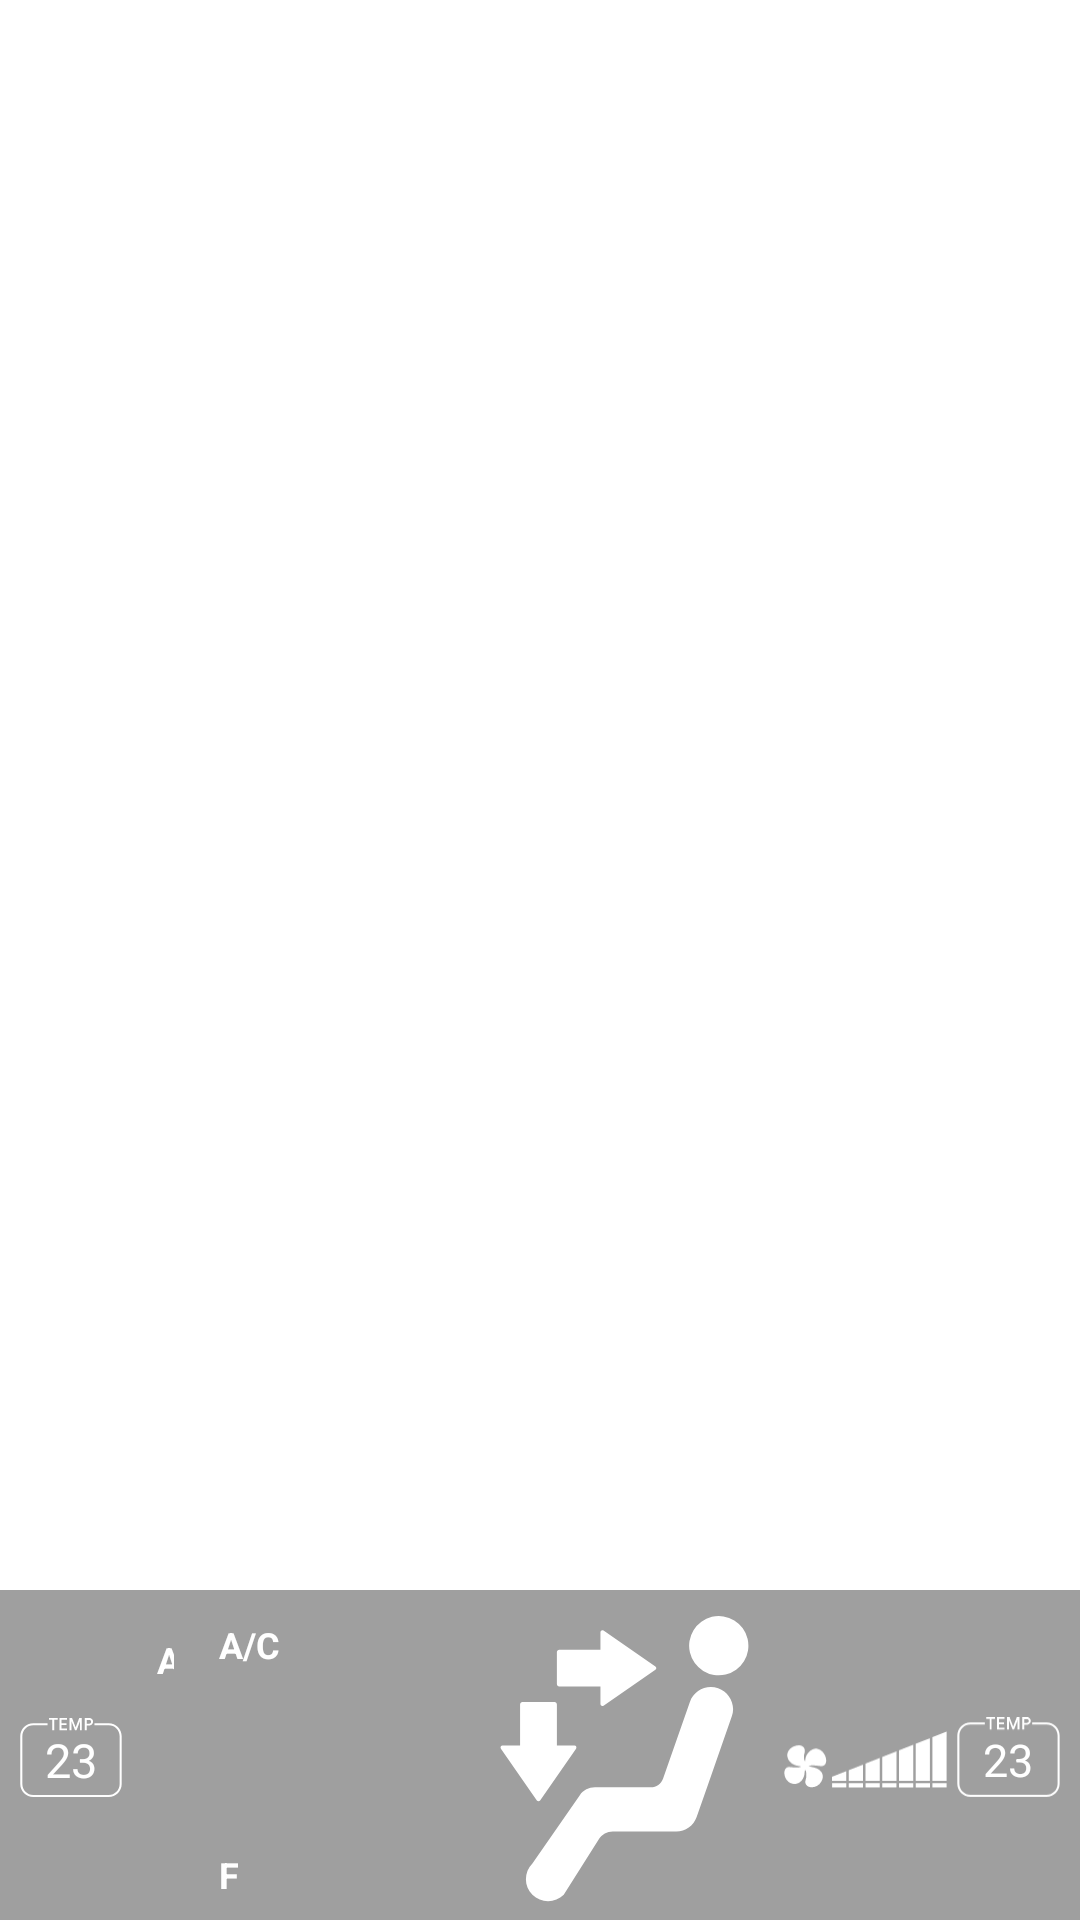

Icons on this 1080 x 1920 Android screen, each with the point to tap as (x=x, y=y):
fan dir up down: (x=624, y=1758)
fan speed: (x=865, y=1760)
